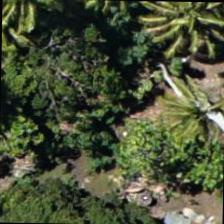Kelapa_Sawit: (148, 1, 223, 71)
